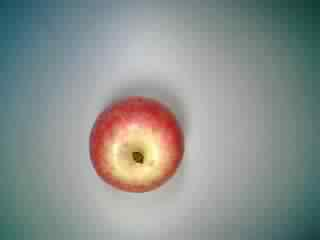apple: (82, 93, 186, 197)
